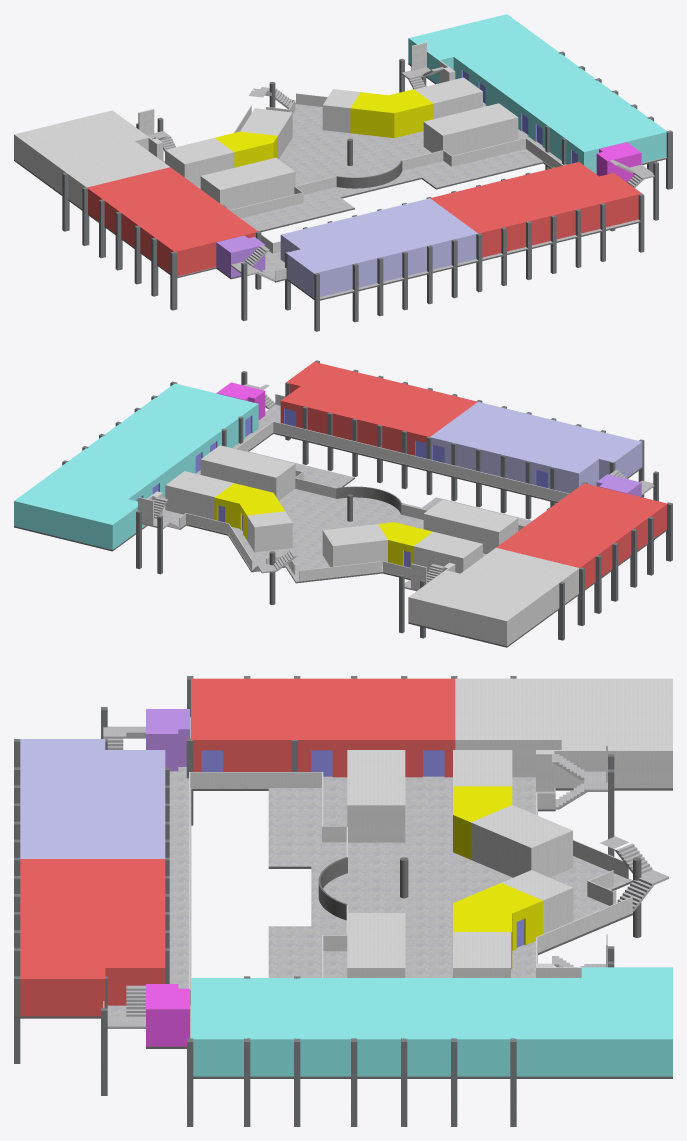
The model's file is Annex 11F.gltf.
3 views of the same model, one above another, from view 1: azimuth 30°, elevation 25°; view 2: azimuth 150°, elevation 25°; view 3: azimuth 270°, elevation 25° (orthographic). The views are drawn at different scales.
Parts seen in each view (by area): view 1: object 57, object 59, object 72, object 66, object 68, object 73, object 64, object 63, object 61, object 67, object 54, object 65 (+4 smaller); view 2: object 57, object 72, object 66, object 59, object 68, object 64, object 61, object 73, object 63, object 67, object 54, Column#1 (×3) (+4 smaller); view 3: object 57, object 59, object 68, object 66, object 64, object 72, object 73, object 63, object 61, Stairs (×3), object 56, object 54 (+5 smaller).
Boxes of the visible parts, x1=… form: object 57: x1=14, y1=60, x2=518, y2=210; object 59: x1=14, y1=63, x2=667, y2=301; object 72: x1=280, y1=198, x2=477, y2=298; object 66: x1=430, y1=162, x2=641, y2=257; object 68: x1=87, y1=167, x2=257, y2=276; object 73: x1=529, y1=92, x2=666, y2=174; object 64: x1=408, y1=14, x2=559, y2=86; object 63: x1=477, y1=54, x2=612, y2=136; object 61: x1=230, y1=93, x2=563, y2=280; object 67: x1=378, y1=89, x2=433, y2=138; object 54: x1=215, y1=131, x2=277, y2=167; object 65: x1=216, y1=235, x2=265, y2=277; object 57: x1=143, y1=445, x2=579, y2=646; object 72: x1=430, y1=402, x2=642, y2=493; object 66: x1=280, y1=361, x2=477, y2=458; object 59: x1=14, y1=404, x2=666, y2=647; object 68: x1=496, y1=483, x2=667, y2=588; object 64: x1=14, y1=462, x2=151, y2=549; object 61: x1=179, y1=394, x2=569, y2=581; object 73: x1=120, y1=383, x2=258, y2=456; object 63: x1=68, y1=423, x2=203, y2=497; object 67: x1=214, y1=483, x2=277, y2=528; object 54: x1=378, y1=522, x2=432, y2=567; Column#1 (×3): x1=594, y1=528, x2=637, y2=613; object 57: x1=347, y1=678, x2=672, y2=977; object 59: x1=14, y1=717, x2=672, y2=1078; object 68: x1=191, y1=678, x2=455, y2=777; object 66: x1=20, y1=859, x2=165, y2=1016; object 64: x1=511, y1=967, x2=672, y2=1076; object 72: x1=20, y1=739, x2=165, y2=858; object 73: x1=191, y1=978, x2=354, y2=1076; object 63: x1=354, y1=978, x2=511, y2=1076; object 61: x1=103, y1=772, x2=632, y2=1008; Stairs (×3): x1=103, y1=726, x2=607, y2=1028; object 56: x1=146, y1=984, x2=189, y2=1046; object 54: x1=453, y1=786, x2=512, y2=859.
Size of the model in its own units: 60.65 by 8.03 by 46.15.
Materials: 11 (3 with a texture image).
